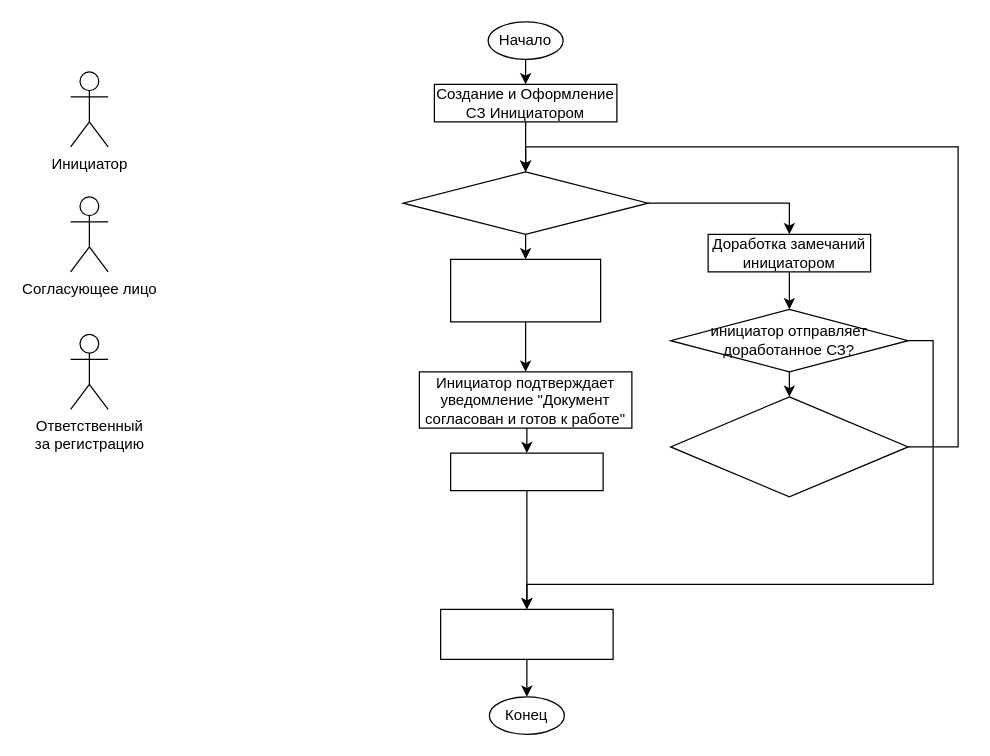
The diagram is 990 pixels wide and 756 high, and some of its shapes have lost their labels. Here are the shapes that lost their labels. From the top down, the centre of each, then its label:
the point at 525,202: Согласующее лицо согласовало приказ ?
the point at 525,290: Ответственный за регистрацию регистрирует приказ
the point at 788,446: инициатор отправляет доработанное СЗ Без согласования?
the point at 526,471: Инициатор уточняет список рассылок
the point at 526,633: Инициатор утверждает уведомление об окончании процесса
